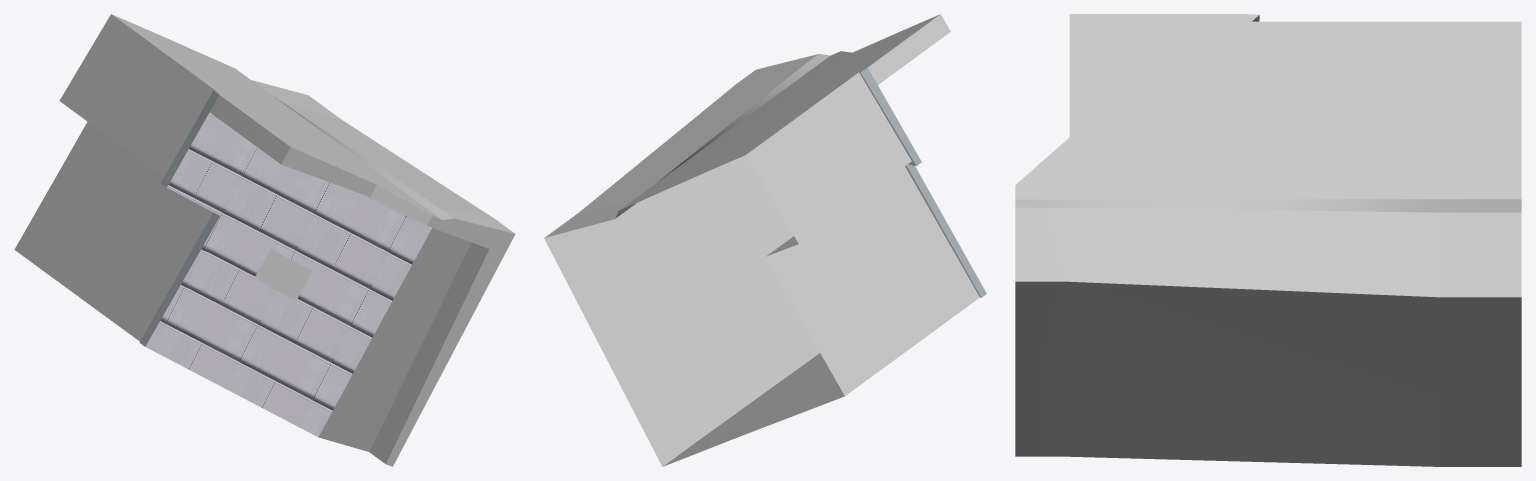
File: Lai_40_2.obj
3 views of the same model, side by side, from view 1: azimuth 30°, elevation 25°; view 2: azimuth 150°, elevation 25°; view 3: azimuth 270°, elevation 25° (orthographic). The views are drawn at different scales.
Parts seen in each view (by area): view 1: Lai_40_2; view 2: Lai_40_2; view 3: Lai_40_2.
Boxes of the visible parts, bbox=[...] form: Lai_40_2: bbox=[14, 14, 515, 466]; Lai_40_2: bbox=[544, 14, 986, 466]; Lai_40_2: bbox=[1015, 14, 1521, 466].
Size of the model in its own units: 10.32 by 10.86 by 12.42.
